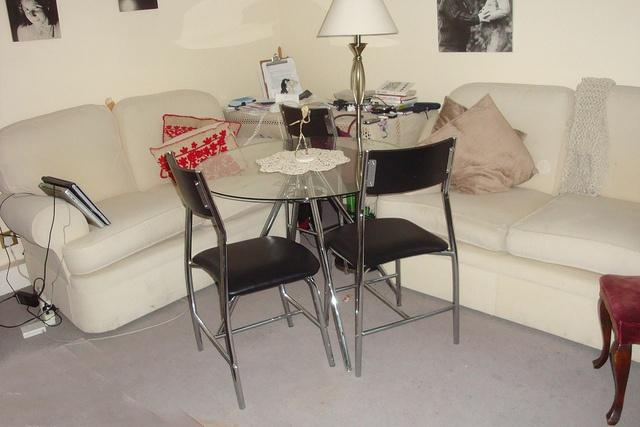Kursi: (163, 150, 337, 407), (320, 136, 462, 375)
